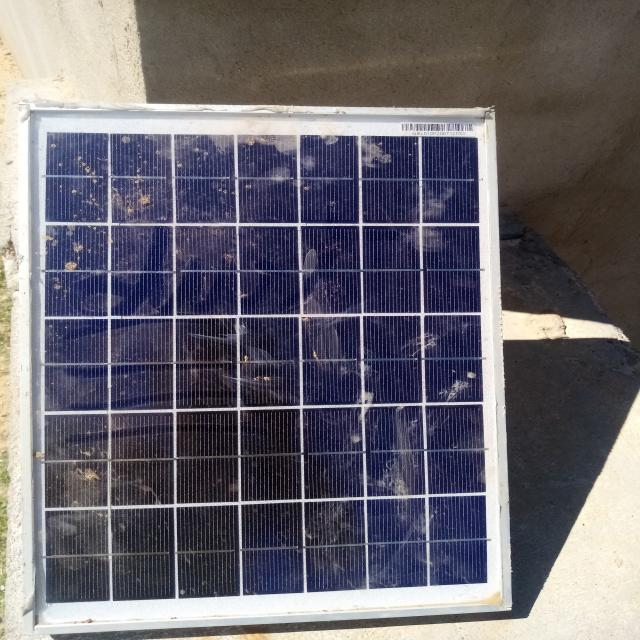faulty: (27, 106, 509, 626)
